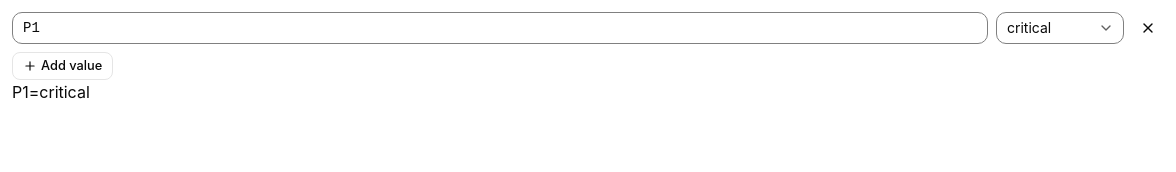
it: severity mapping editor › adds a row with the focus on its value, and removes a row
The image size is (1176, 172).
Click the button "Add value" at x=63, y=66, box [12,52,113,80]
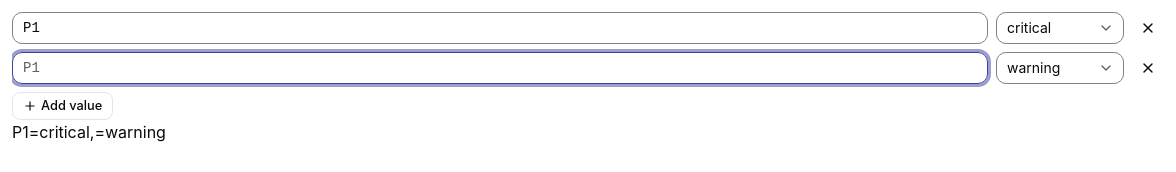
Type "P3" into the field named "Value 2" at x=500, y=68, box [12,52,988,84]
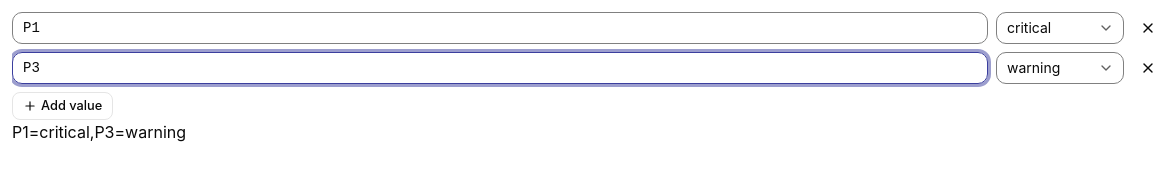
Select "info" in the dropdown named "Level of P3" at x=1060, y=68, box [996,52,1124,84]
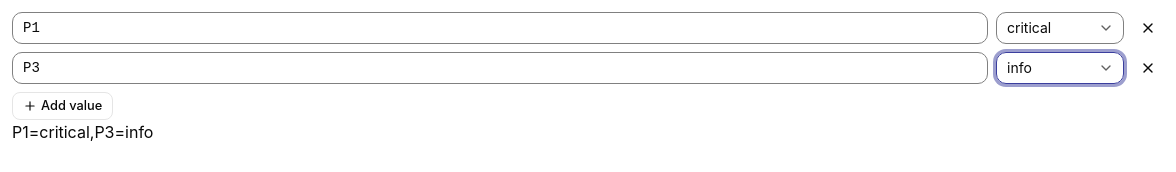
Expected: the text with test id "mapping" reads "P1=critical,P3=info", [12,122,154,142]
Click the button named "Remove P1" at x=1148, y=28, box [1132,12,1164,44]
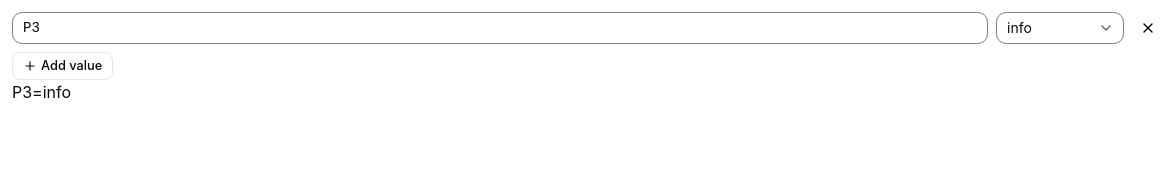
Expected: the text with test id "mapping" reads "P3=info", [12,82,71,102]
